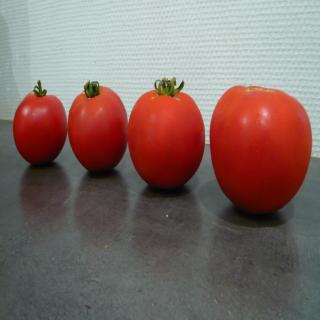Tomato: (210, 84, 312, 214), (127, 75, 205, 187), (66, 80, 129, 173), (13, 81, 66, 166)
